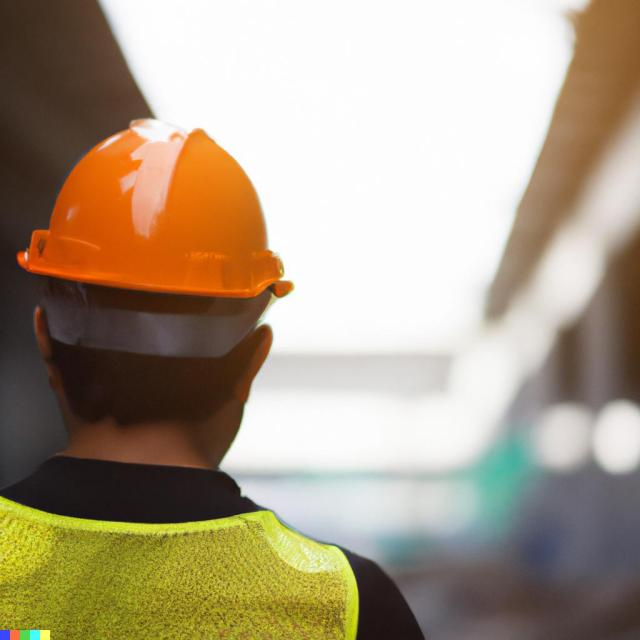Reflective-Jacket: (0, 465, 402, 640)
Safety-Helmet: (19, 120, 298, 298)
